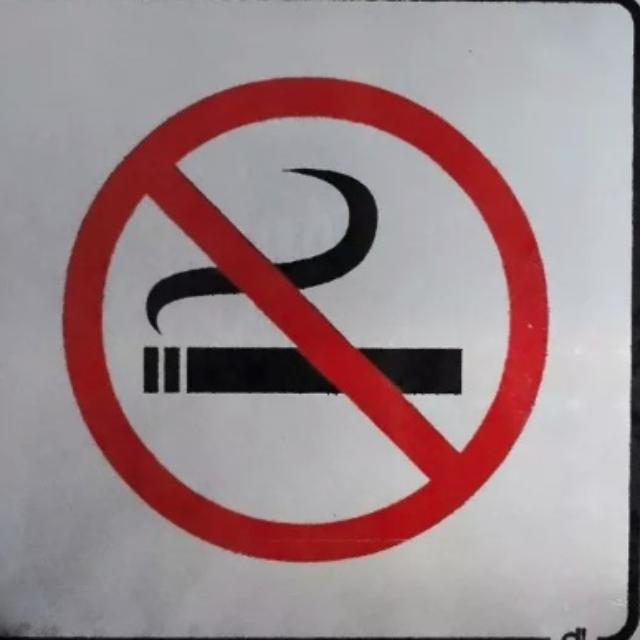cam hut thuoc: (63, 81, 547, 561)
